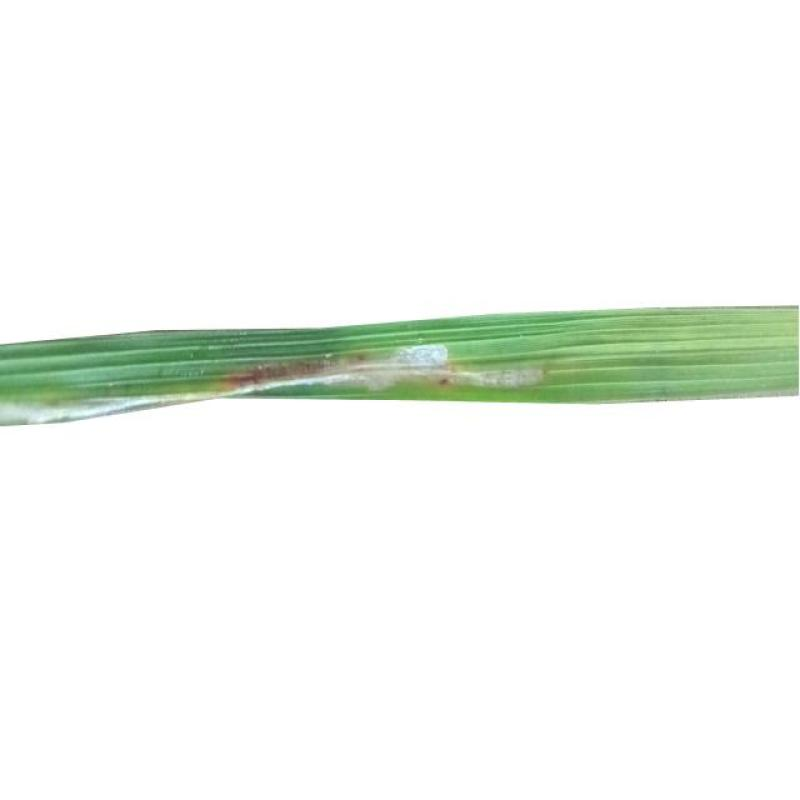Bacterial_Leaf_Blight: (216, 359, 549, 391), (394, 342, 453, 398), (3, 399, 135, 421)
